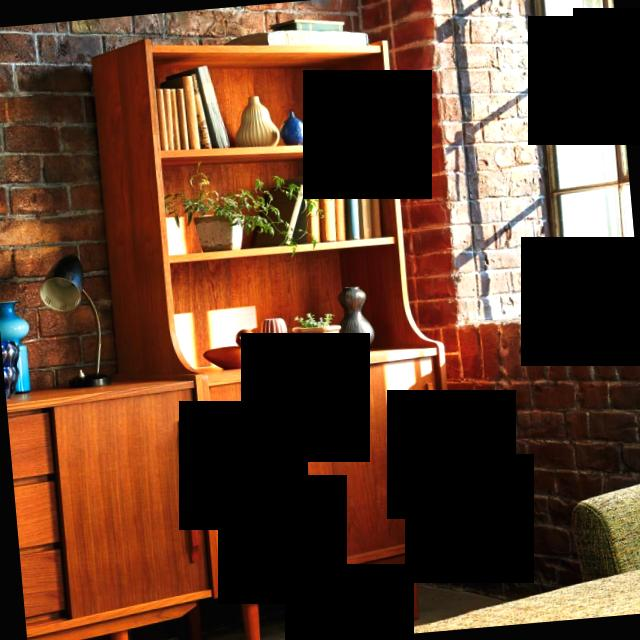vintage shelf: (83, 15, 473, 640), (5, 371, 217, 640)
